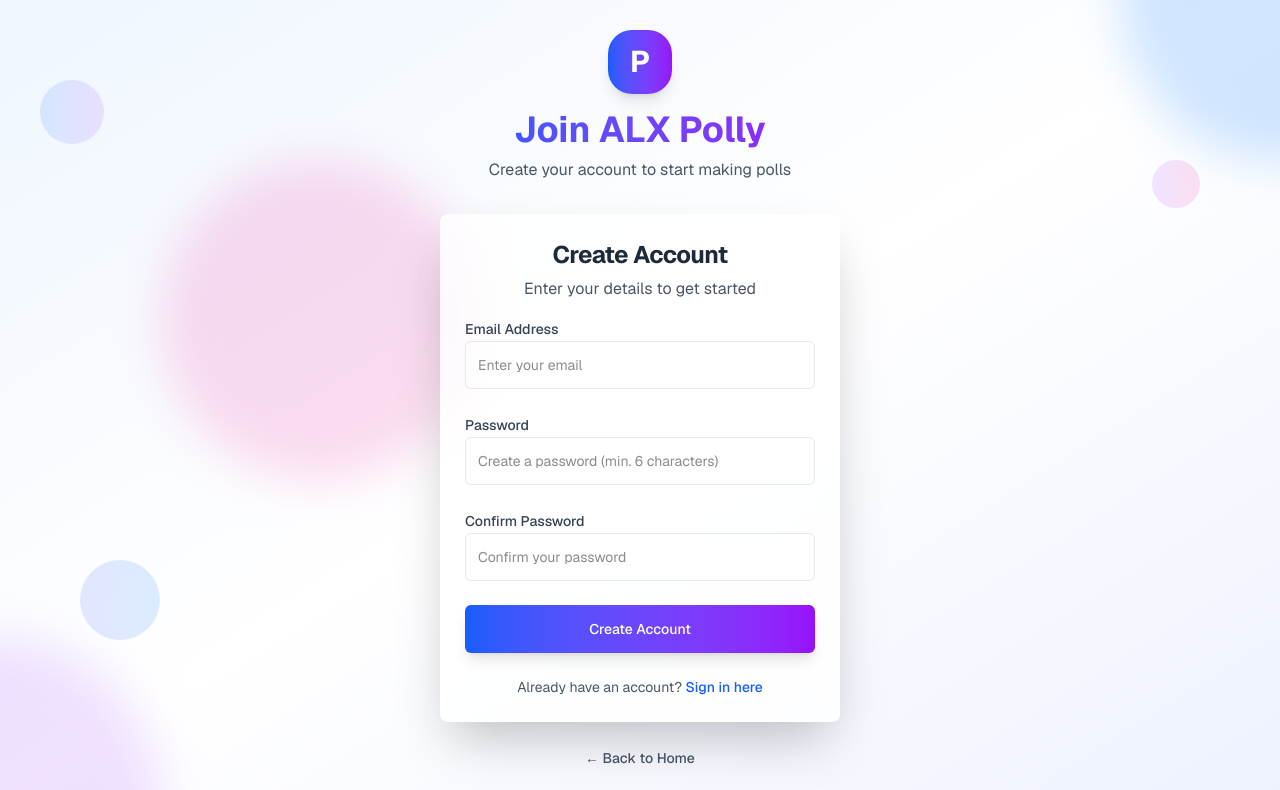
RegisterPage Component › handles registration error
Step 1. Type "test@example.com" into the field labelled "Email Address" → (640, 365), box x1=465 y1=341 x2=815 y2=389
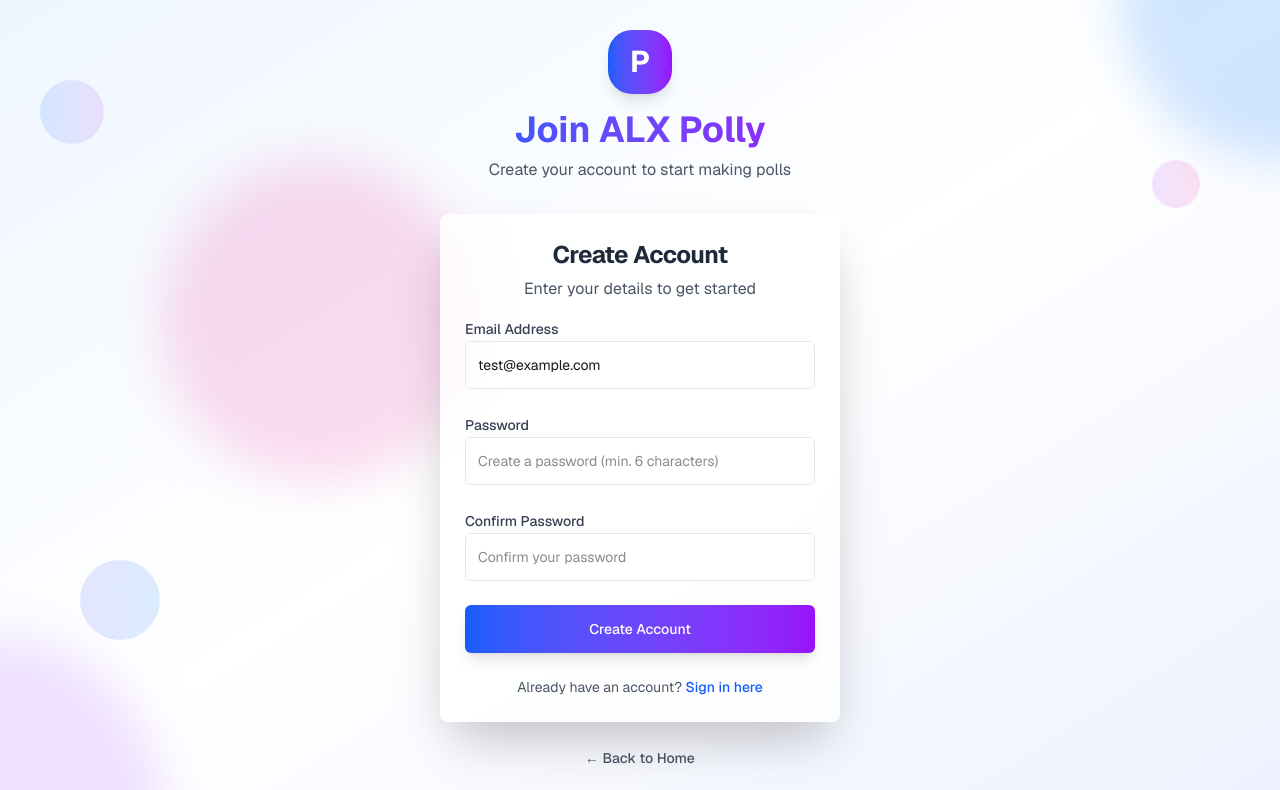
Step 2. Type "password123" into the password field labelled "Password" → (640, 461), box x1=465 y1=437 x2=815 y2=485
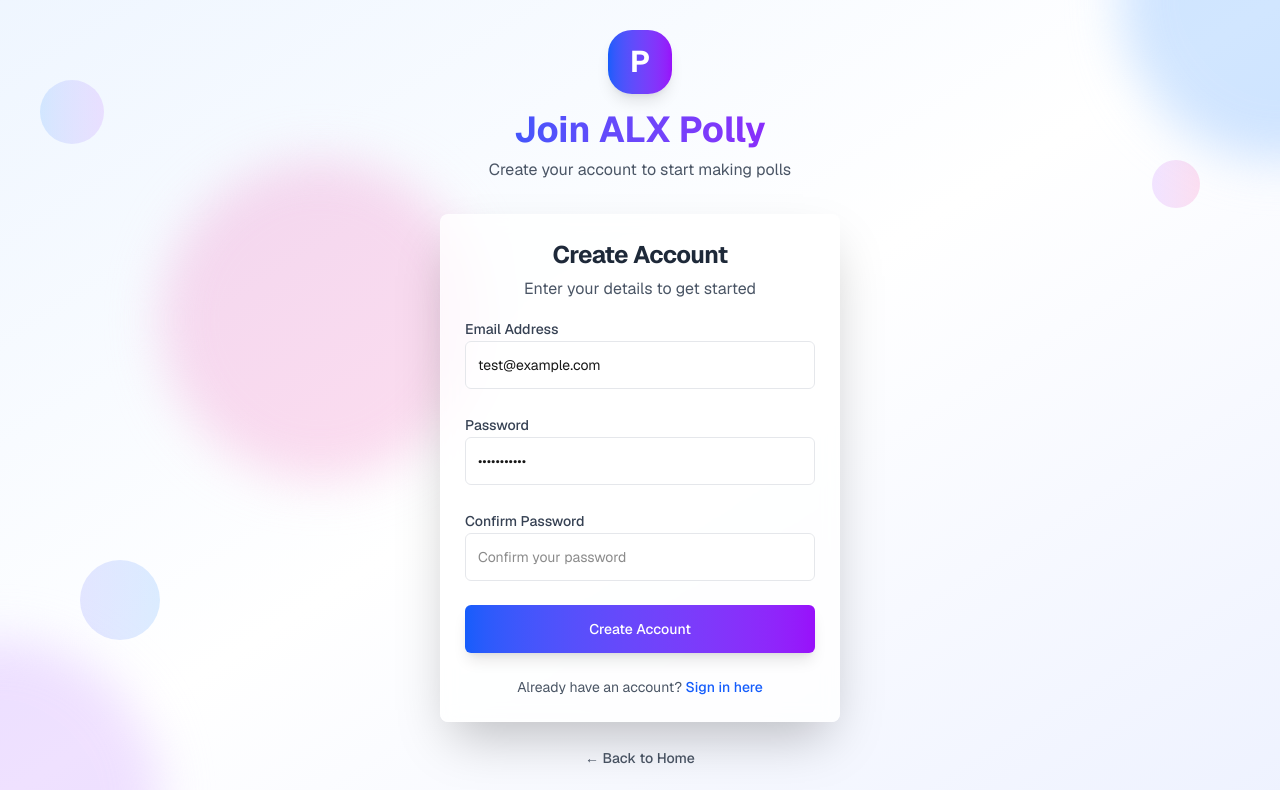
Step 3. Type "password123" into the password field labelled "Confirm Password" → (640, 557), box x1=465 y1=533 x2=815 y2=581
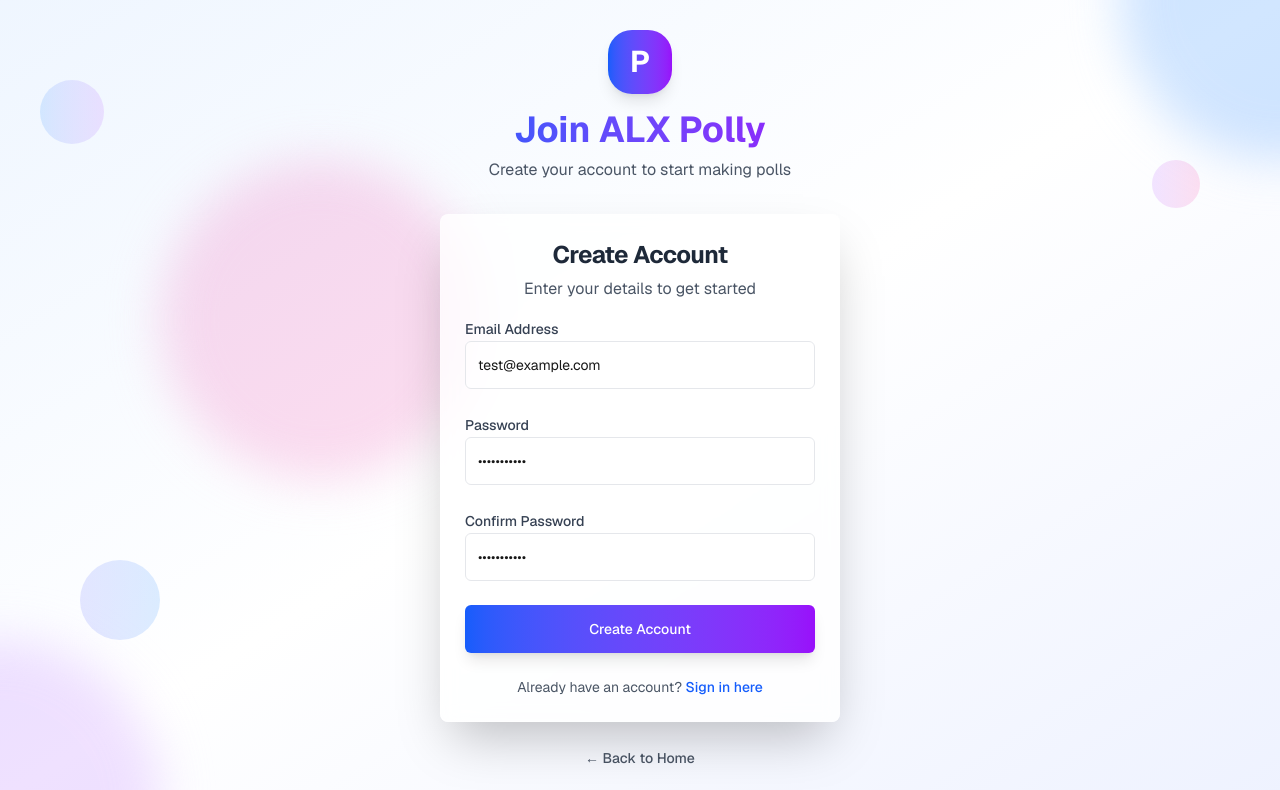
Step 4. Click the button "Create Account" → (640, 629), box x1=465 y1=605 x2=815 y2=653
Wait 3000 ms
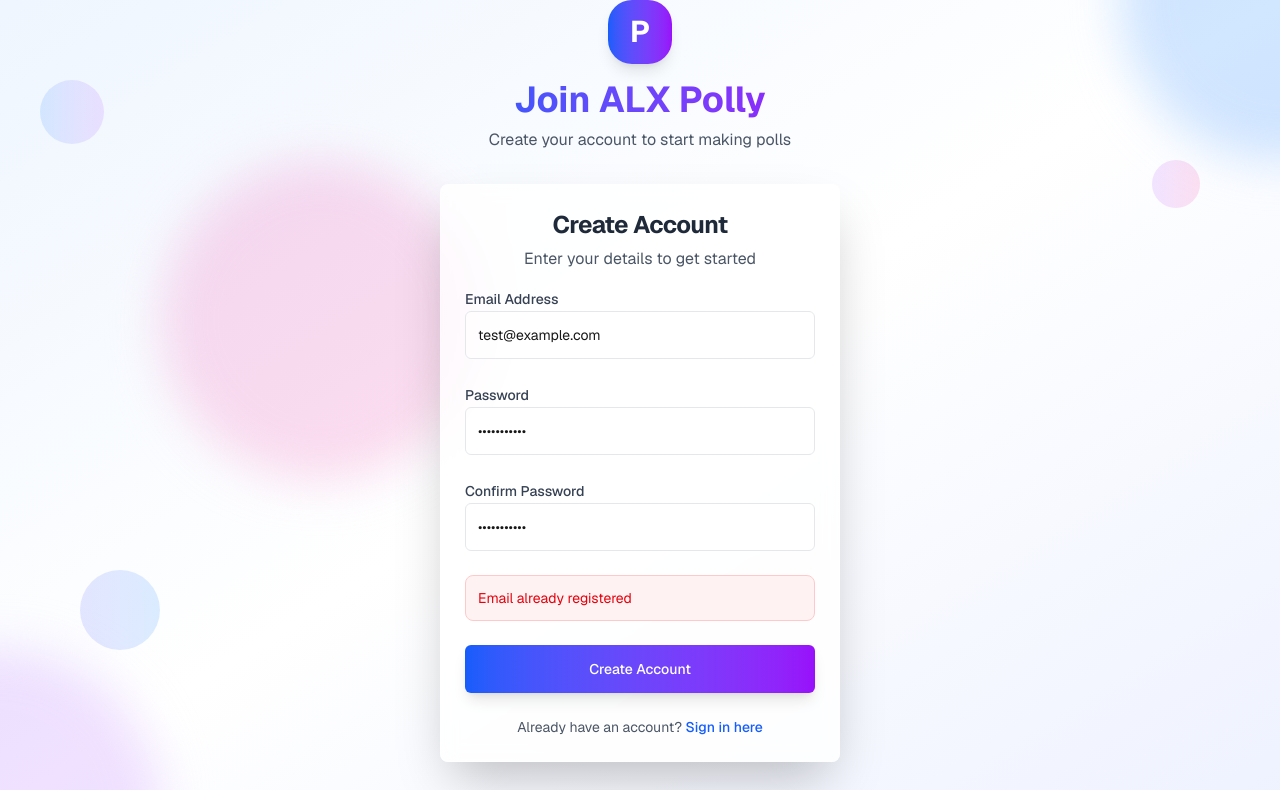
expect the button "Create Account" is enabled: met, box x1=465 y1=645 x2=815 y2=693
expect the text "Email already registered" is shown: met, box x1=478 y1=589 x2=632 y2=607
